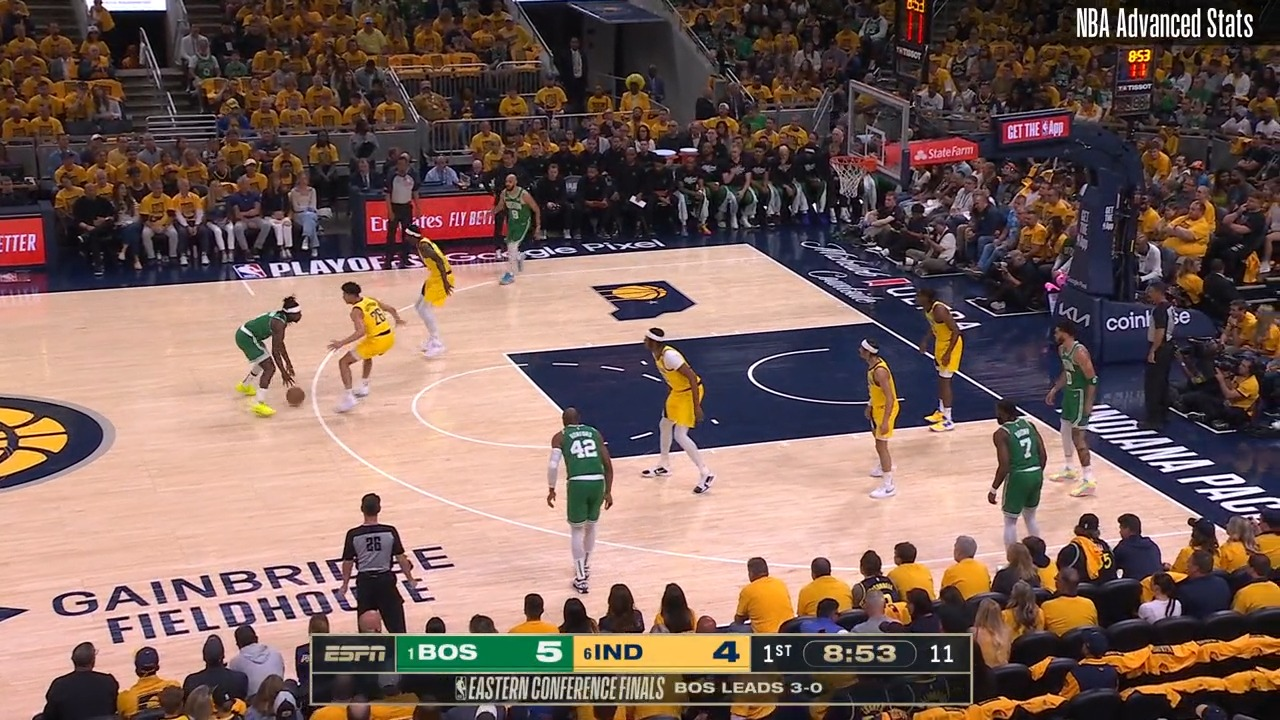basketball: (285, 383, 308, 409)
